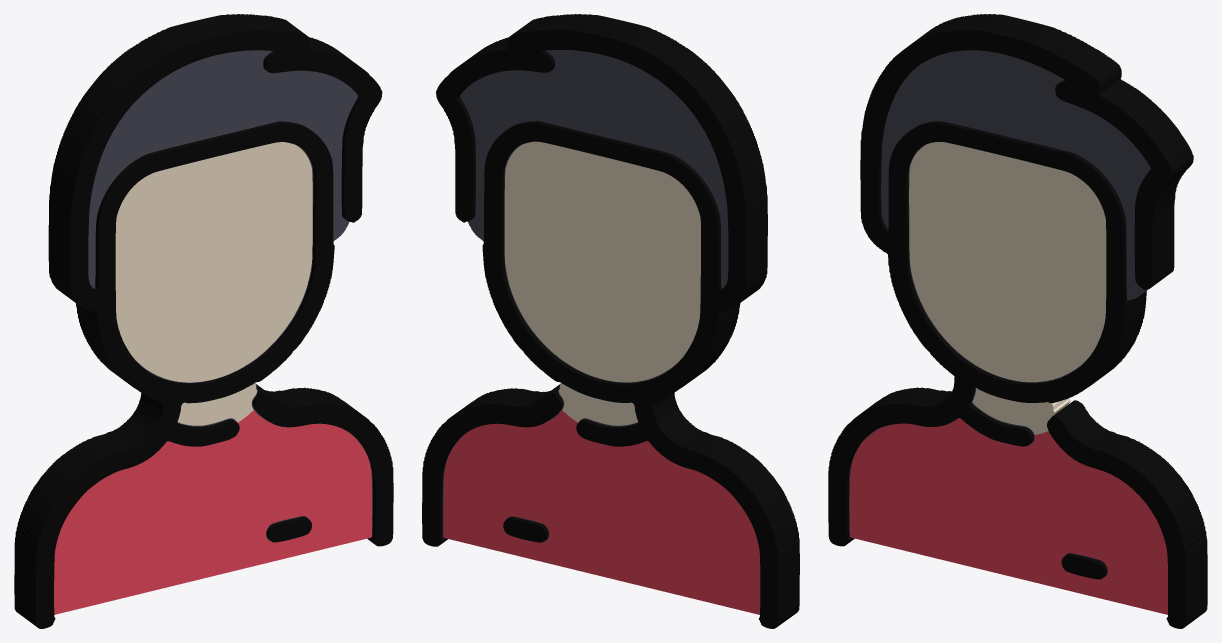
File: profile-icon.glb
3 renders of one model, left to right at view 1: azimuth 30°, elevation 25°; view 2: azimuth 150°, elevation 25°; view 3: azimuth 330°, elevation 25°, orthographic.
Visible parts, largest first — view 1: path2, path0, path1, path3; view 2: path2, path0, path1, path3; view 3: path2, path0, path1, path3.
Boxes of the visible parts, x1,y1,x2,y2 form: path2: (14,14,393,628); path0: (115,142,312,425); path1: (54,403,371,614); path3: (88,50,372,541); path2: (422,14,799,628); path0: (504,141,700,425); path1: (443,403,760,614); path3: (442,49,728,541); path2: (828,14,1207,628); path0: (909,142,1106,434); path1: (849,418,1167,614); path3: (849,50,1150,577).
Bounding box in the file's own units: 14.5 × 21.4 × 1.64.
